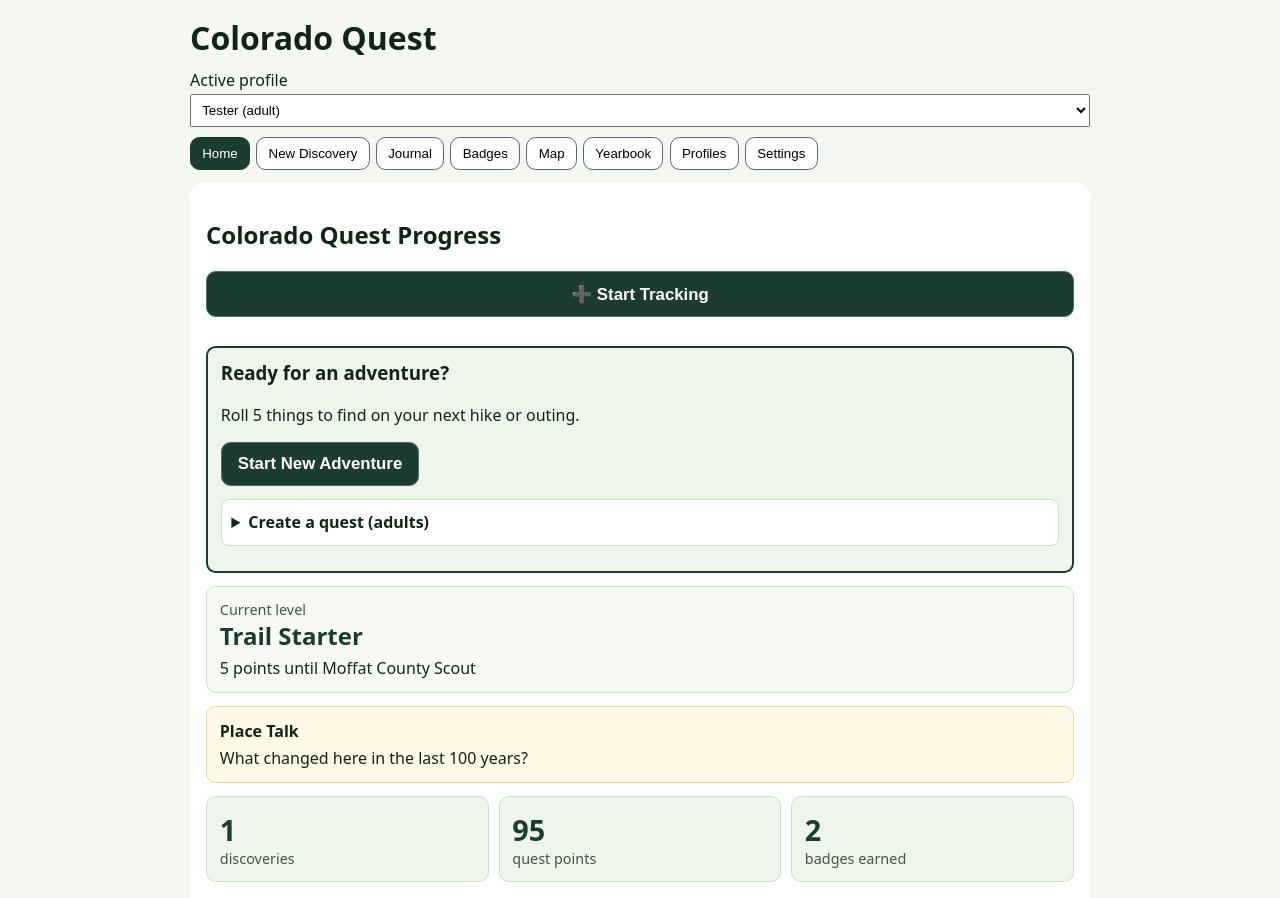
sensitive GPS reveal hold › hides GPS behind hold button for sensitive category
Click the button "Journal". click: (410, 153)
box: x1=376 y1=137 x2=444 y2=170
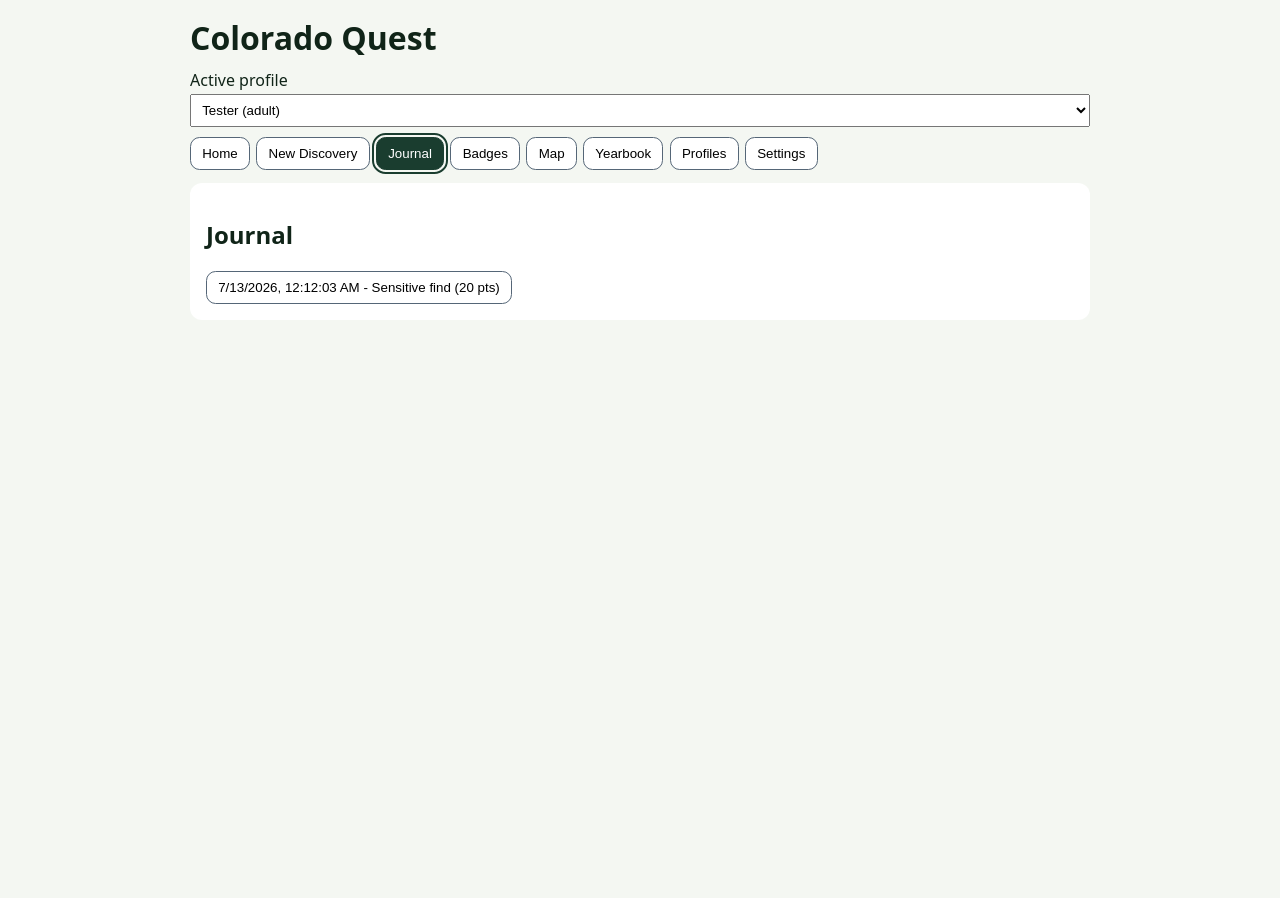
Click the button "7/13/2026, 12:12:03 AM - Sensitive find (20 pts)". click: (359, 288)
box: x1=206 y1=271 x2=512 y2=304
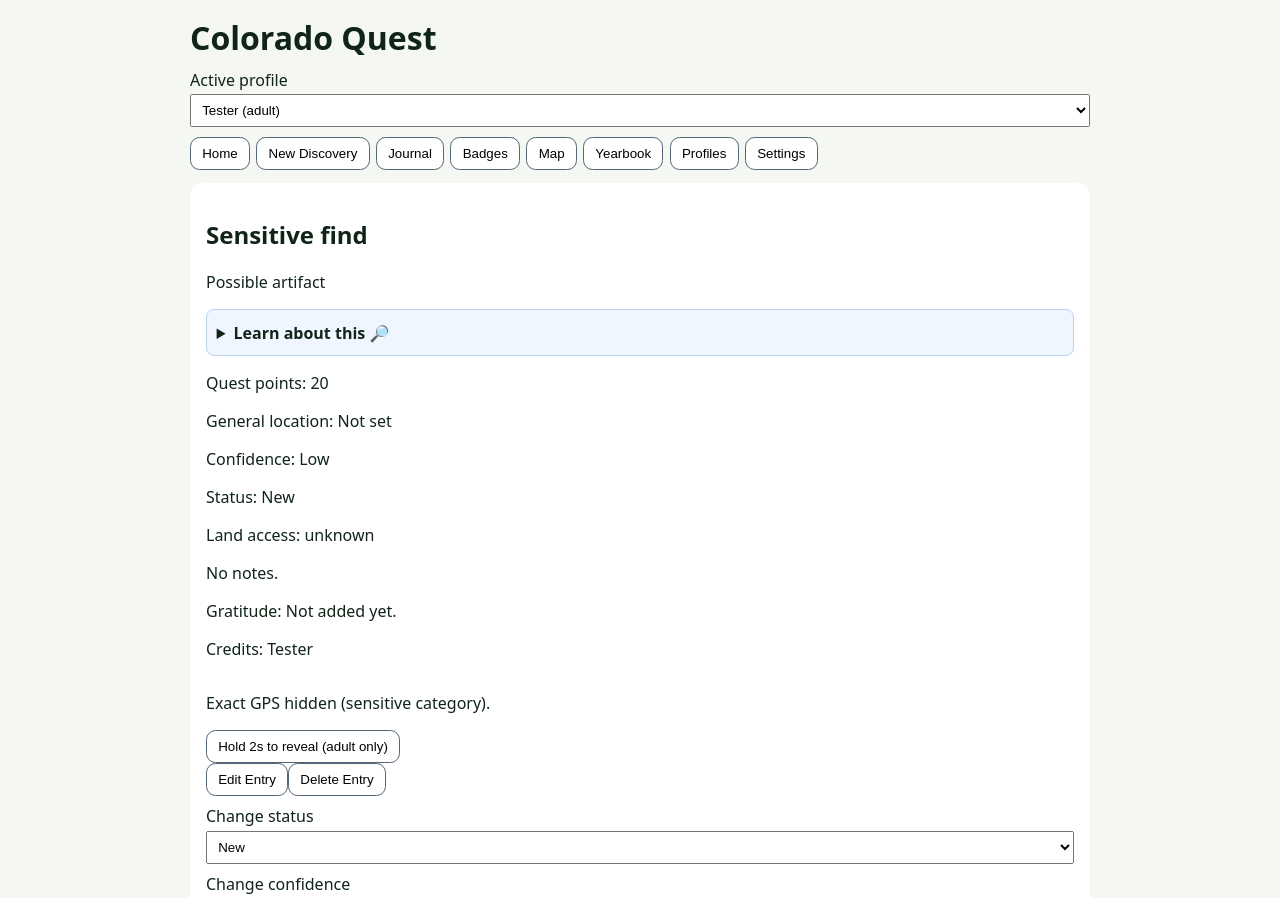
Result: the text "Exact GPS hidden (sensitive category)." is shown at x1=206 y1=692 x2=490 y2=714
Result: the button "Hold 2s to reveal (adult only)" is shown at x1=206 y1=730 x2=400 y2=763
